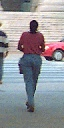person: (18, 22, 43, 108)
